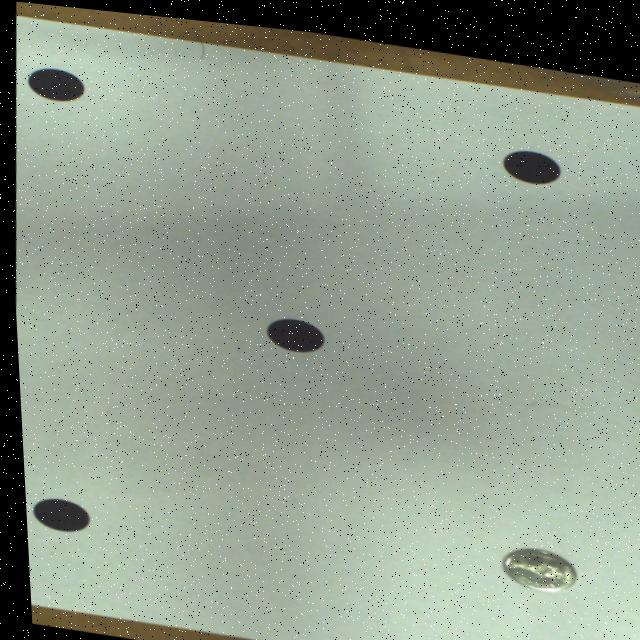space: (497, 537, 570, 580), (502, 138, 558, 172), (263, 312, 320, 345), (27, 497, 84, 530), (27, 67, 84, 99)
